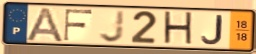2: (129, 10, 160, 46)
A: (23, 6, 66, 43)
F: (62, 8, 94, 43)
H: (162, 10, 195, 47)
J: (97, 9, 126, 44), (200, 14, 224, 46)
